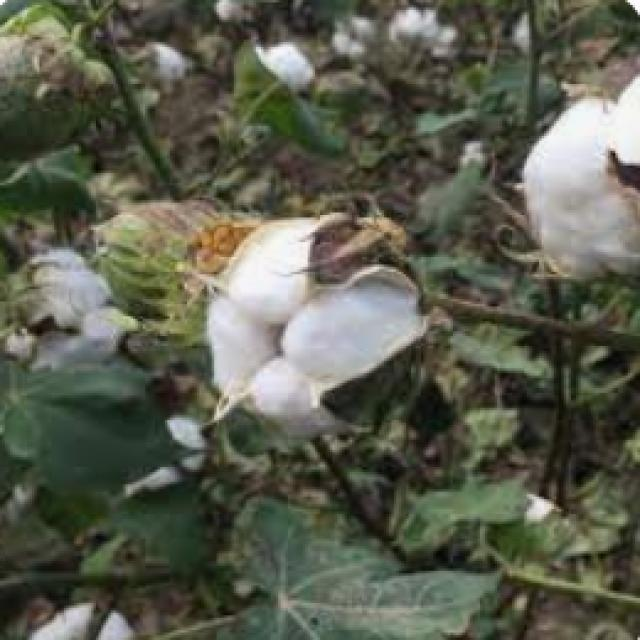Early Boll: (89, 198, 219, 314)
Matured Cotton Boll: (209, 214, 428, 438), (531, 73, 640, 291), (0, 250, 133, 368)
